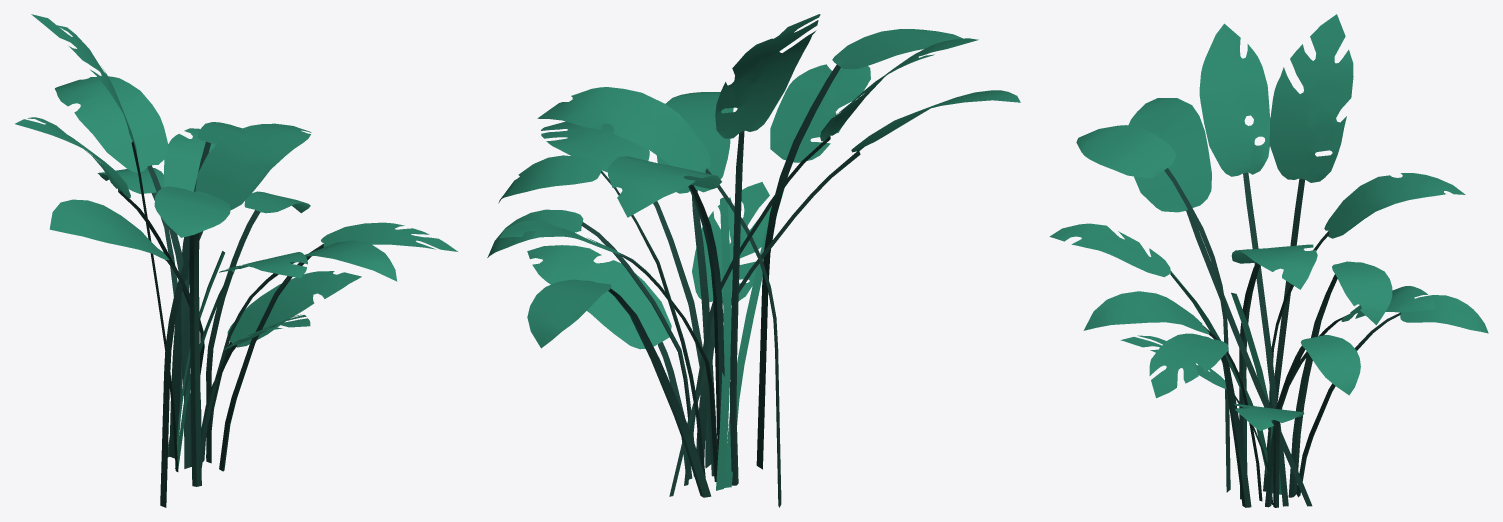
File: plant_monstera_B_wild.fbx
The picture shows the model from 3 angles, left to right: view 1: azimuth 30°, elevation 25°; view 2: azimuth 150°, elevation 25°; view 3: azimuth 270°, elevation 25°; orthographic projection. The views are drawn at different scales.
Visible parts, largest first — view 1: plant_monstera_B_leaf_04, plant_monstera_B_leaf_31, plant_monstera_B_leaf_08, plant_monstera_B_leaf_20, plant_monstera_B_leaf_06, plant_monstera_B_leaf_17, plant_monstera_B_leaf_10, plant_monstera_B_leaf_07, plant_monstera_B_leaf_22, plant_monstera_B_leaf_15, plant_monstera_B_leaf_03, plant_monstera_B_leaf_30 (+4 smaller); view 2: plant_monstera_B_leaf_03, plant_monstera_B_leaf_31, plant_monstera_B_leaf_30, plant_monstera_B_leaf_20, plant_monstera_B_leaf_04, plant_monstera_B_leaf_08, plant_monstera_B_leaf_14, plant_monstera_B_leaf_10, plant_monstera_B_leaf_17, plant_monstera_B_leaf_01, plant_monstera_B_leaf_15, plant_monstera_B_leaf_06 (+4 smaller); view 3: plant_monstera_B_leaf_03, plant_monstera_B_leaf_02, plant_monstera_B_leaf_06, plant_monstera_B_leaf_08, plant_monstera_B_leaf_17, plant_monstera_B_leaf_04, plant_monstera_B_leaf_15, plant_monstera_B_leaf_10, plant_monstera_B_leaf_30, plant_monstera_B_leaf_31, plant_monstera_B_leaf_22, plant_monstera_B_leaf_14 (+4 smaller).
Boxes of the visible parts, x1=… form: plant_monstera_B_leaf_04: x1=55, y1=76, x2=190, y2=468; plant_monstera_B_leaf_31: x1=160, y1=123, x2=311, y2=507; plant_monstera_B_leaf_08: x1=154, y1=186, x2=230, y2=486; plant_monstera_B_leaf_20: x1=206, y1=271, x2=361, y2=457; plant_monstera_B_leaf_06: x1=49, y1=199, x2=204, y2=374; plant_monstera_B_leaf_17: x1=219, y1=222, x2=457, y2=471; plant_monstera_B_leaf_10: x1=201, y1=240, x2=397, y2=467; plant_monstera_B_leaf_07: x1=164, y1=128, x2=215, y2=466; plant_monstera_B_leaf_22: x1=206, y1=191, x2=310, y2=463; plant_monstera_B_leaf_15: x1=169, y1=122, x2=247, y2=458; plant_monstera_B_leaf_03: x1=31, y1=14, x2=178, y2=471; plant_monstera_B_leaf_30: x1=175, y1=252, x2=307, y2=468; plant_monstera_B_leaf_03: x1=715, y1=14, x2=820, y2=485; plant_monstera_B_leaf_31: x1=537, y1=87, x2=781, y2=507; plant_monstera_B_leaf_30: x1=724, y1=64, x2=870, y2=487; plant_monstera_B_leaf_20: x1=527, y1=245, x2=692, y2=479; plant_monstera_B_leaf_04: x1=608, y1=156, x2=724, y2=459; plant_monstera_B_leaf_08: x1=756, y1=29, x2=962, y2=469; plant_monstera_B_leaf_14: x1=527, y1=279, x2=711, y2=497; plant_monstera_B_leaf_10: x1=656, y1=92, x2=733, y2=476; plant_monstera_B_leaf_17: x1=541, y1=121, x2=710, y2=468; plant_monstera_B_leaf_01: x1=692, y1=182, x2=775, y2=461; plant_monstera_B_leaf_15: x1=498, y1=155, x2=705, y2=477; plant_monstera_B_leaf_06: x1=669, y1=90, x2=1020, y2=496; plant_monstera_B_leaf_03: x1=1263, y1=14, x2=1353, y2=491; plant_monstera_B_leaf_02: x1=1199, y1=23, x2=1288, y2=506; plant_monstera_B_leaf_06: x1=1128, y1=98, x2=1312, y2=506; plant_monstera_B_leaf_08: x1=1076, y1=125, x2=1230, y2=492; plant_monstera_B_leaf_17: x1=1149, y1=333, x2=1251, y2=507; plant_monstera_B_leaf_04: x1=1267, y1=173, x2=1465, y2=481; plant_monstera_B_leaf_15: x1=1288, y1=261, x2=1392, y2=497; plant_monstera_B_leaf_10: x1=1083, y1=291, x2=1262, y2=501; plant_monstera_B_leaf_30: x1=1049, y1=223, x2=1273, y2=492; plant_monstera_B_leaf_31: x1=1231, y1=244, x2=1317, y2=499; plant_monstera_B_leaf_22: x1=1265, y1=335, x2=1360, y2=507; plant_monstera_B_leaf_14: x1=1296, y1=295, x2=1488, y2=497.
Size of the model in its own units: 258 by 288 by 256.
